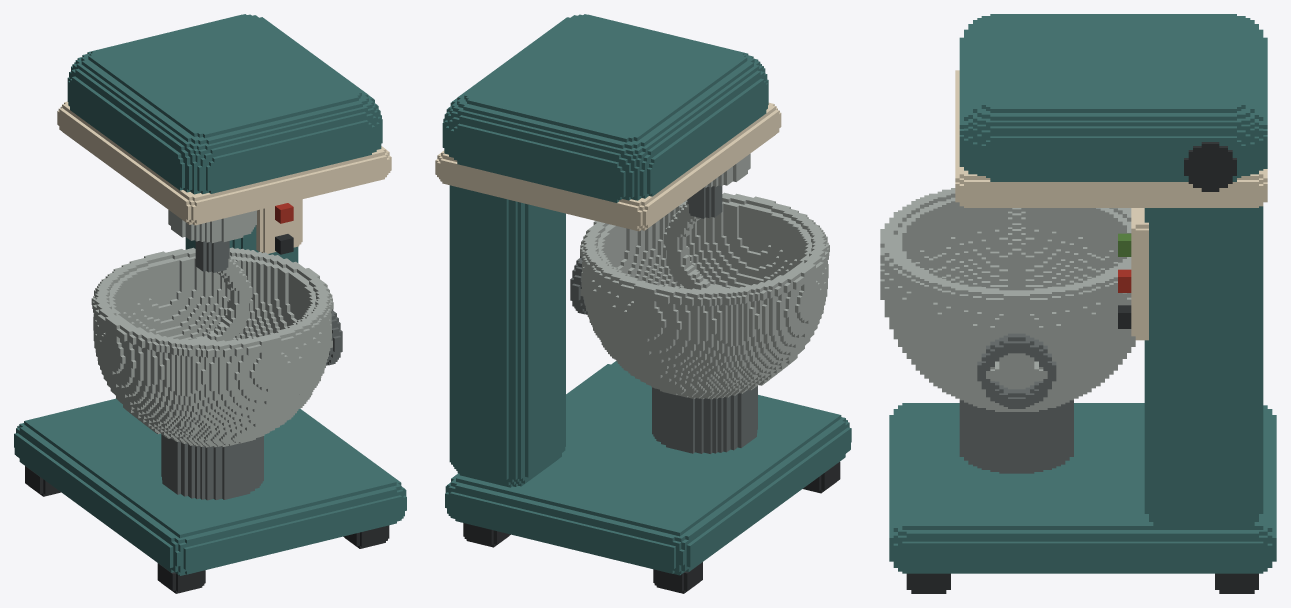
Rendered from dough_mixer.glb.
3 views of the same model, side by side, from view 1: azimuth 30°, elevation 25°; view 2: azimuth 150°, elevation 25°; view 3: azimuth 270°, elevation 25° (orthographic). The views are drawn at different scales.
Visible parts, largest first — view 1: dough_mixer; view 2: dough_mixer; view 3: dough_mixer.
Boxes of the visible parts, x1,y1,x2,y2 form: dough_mixer: [14, 14, 406, 593]; dough_mixer: [435, 14, 851, 593]; dough_mixer: [880, 14, 1276, 593].
Bounding box in the file's own units: 1.42 × 2.21 × 1.62.
